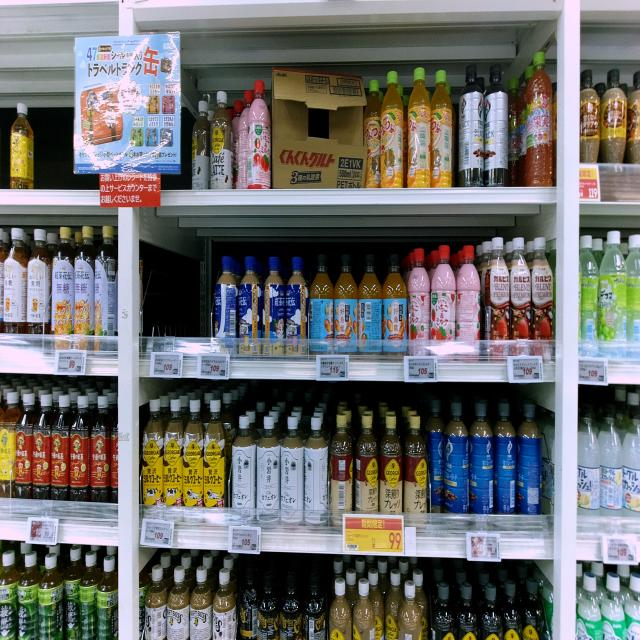objects: (343, 514, 405, 555), (466, 531, 502, 563), (508, 354, 544, 383), (140, 520, 175, 548), (603, 536, 638, 564), (404, 355, 438, 383), (228, 526, 262, 554), (316, 354, 349, 382), (578, 357, 609, 386), (198, 353, 230, 380), (150, 351, 183, 377), (579, 164, 600, 204), (28, 517, 58, 544), (56, 350, 86, 376)
